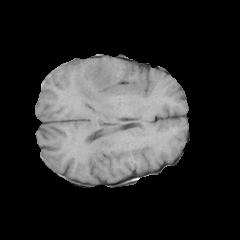glioma: (73, 70, 122, 107)
